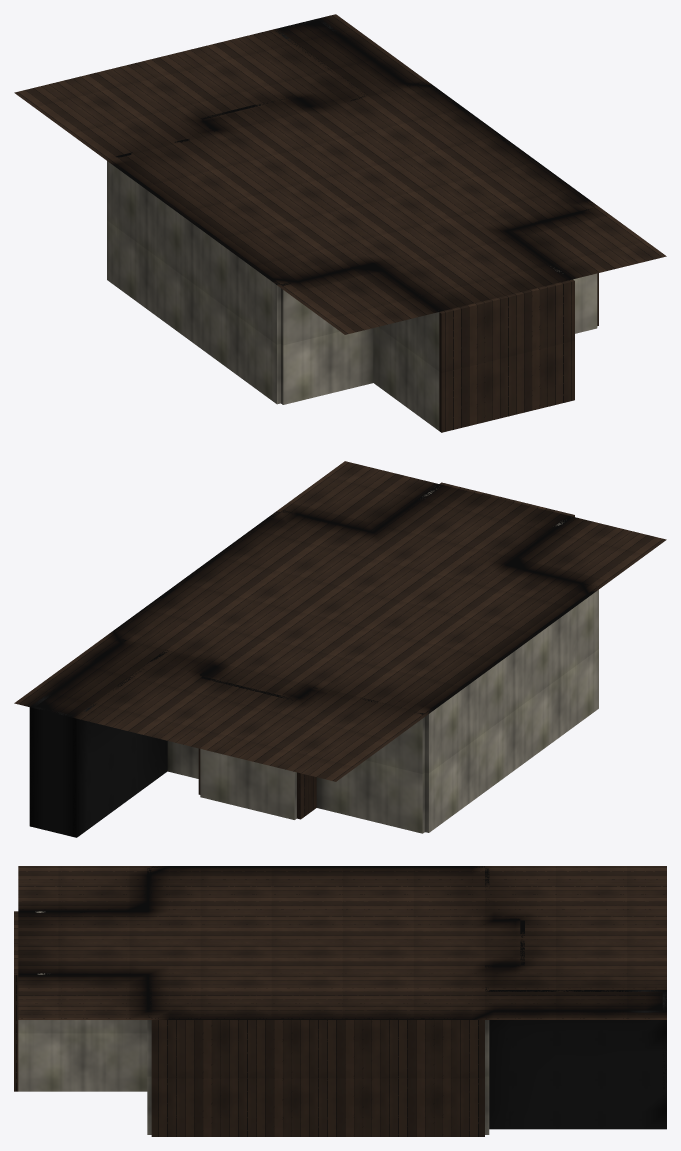
Rendered from interior.glb.
3 renders of one model, top to bottom at view 1: azimuth 30°, elevation 25°; view 2: azimuth 150°, elevation 25°; view 3: azimuth 270°, elevation 25°, orthographic. The views are drawn at different scales.
Parts seen in each view (by area): view 1: interior; view 2: interior; view 3: interior.
Boxes of the visible parts, x1,y1,x2,y2 form: interior: [14, 14, 666, 432]; interior: [14, 461, 666, 837]; interior: [14, 866, 666, 1136].
Bounding box in the file's own units: 8.2 × 2.9 × 14.7.
Materials: 11 (11 with a texture image).
